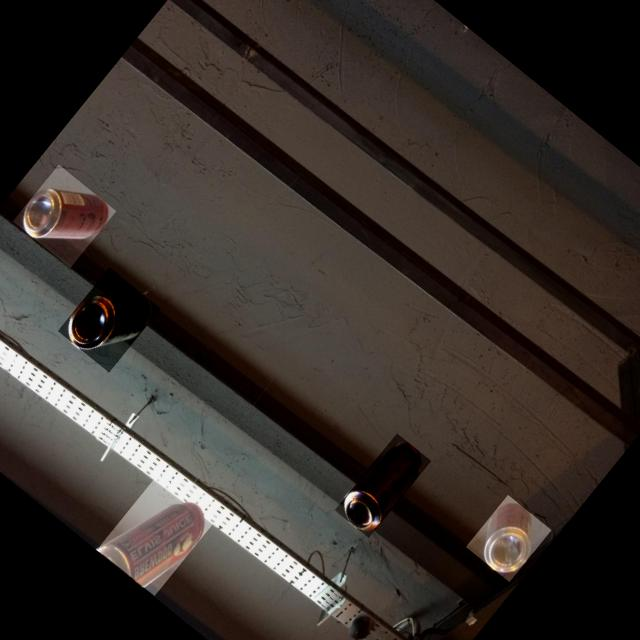Drink can: (96, 502, 204, 588), (343, 443, 420, 531), (68, 292, 151, 351), (23, 188, 108, 239), (484, 503, 531, 573)
